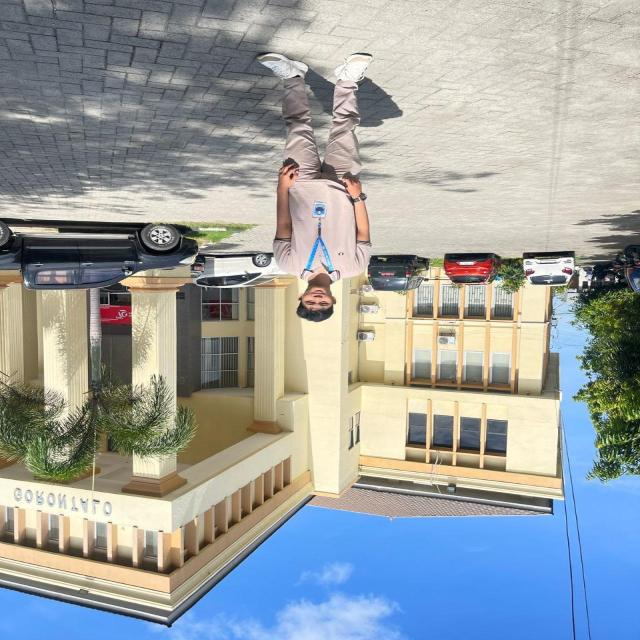nohelmet: (290, 271, 343, 328)
